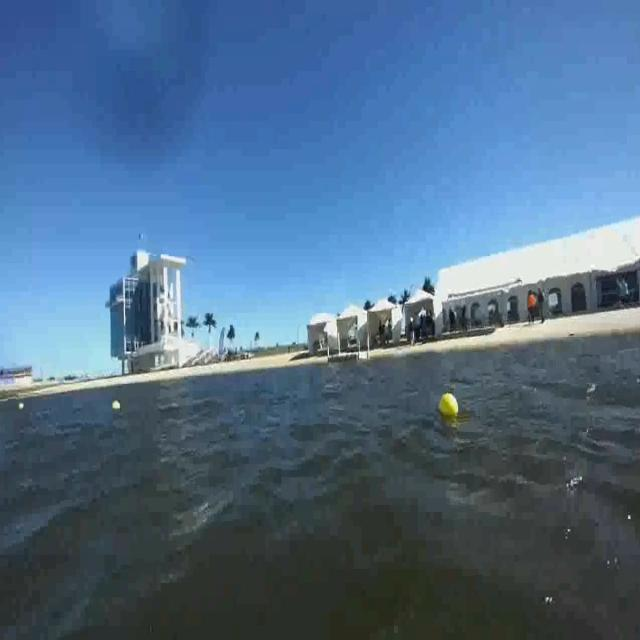yellow-buoy: (437, 394, 457, 420), (111, 397, 122, 412), (16, 399, 24, 412)
